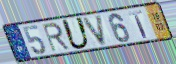5: (22, 24, 47, 56)
6: (108, 12, 131, 44)
R: (41, 21, 72, 53)
T: (127, 9, 149, 40)
U: (60, 16, 91, 51)
V: (81, 13, 107, 47)
